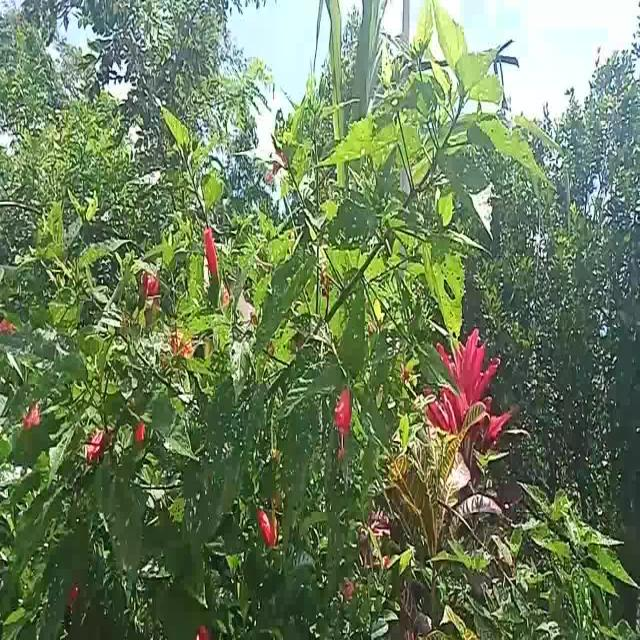Flower: (203, 224, 220, 289), (336, 384, 352, 440), (256, 506, 273, 548)
